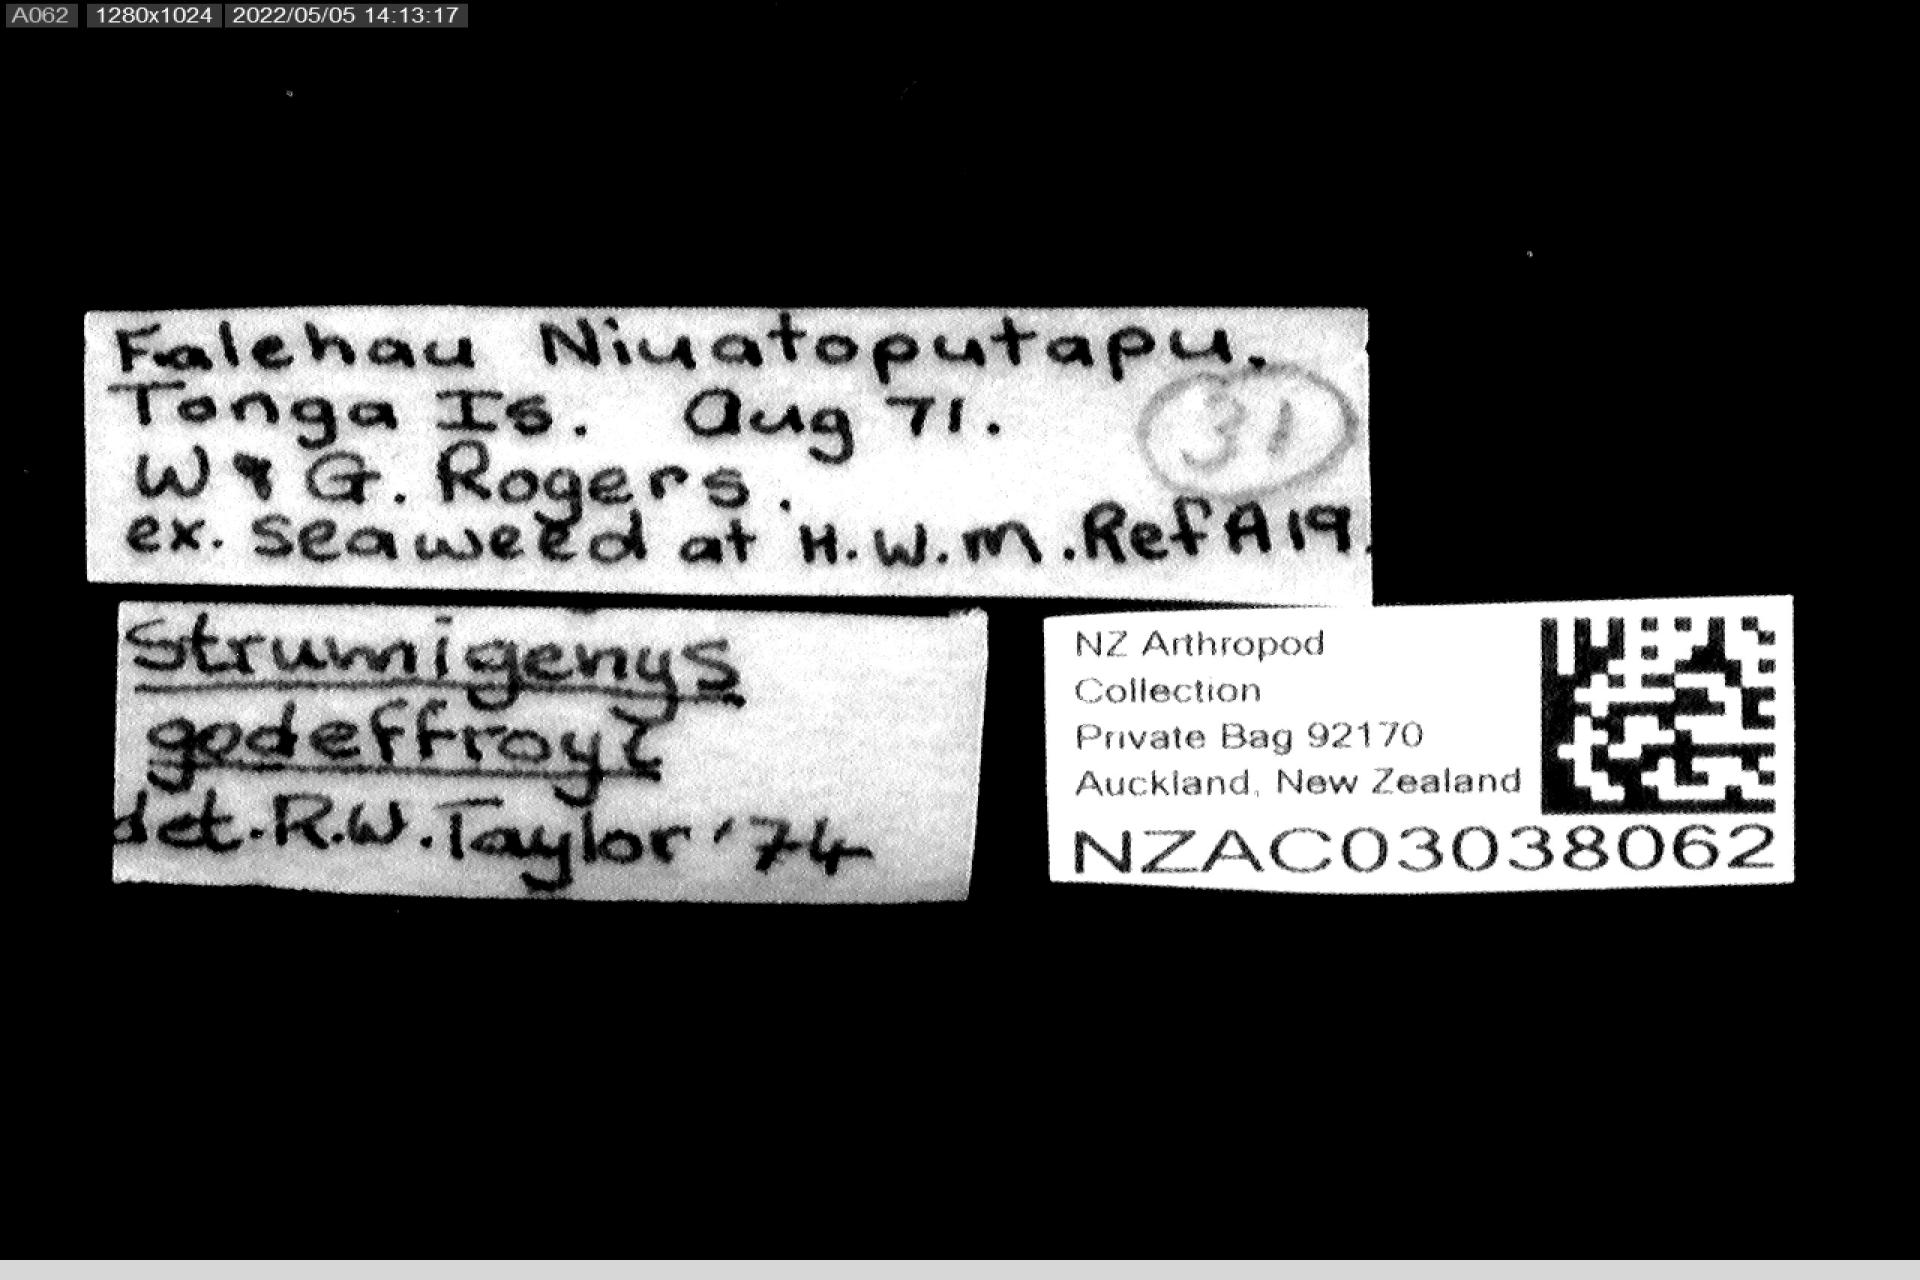hand_label: (86, 306, 1373, 603), (113, 603, 986, 903)
typed_label: (1046, 597, 1793, 890)
